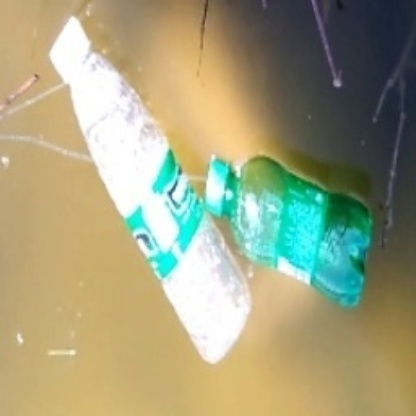bottle: (208, 142, 374, 313)
